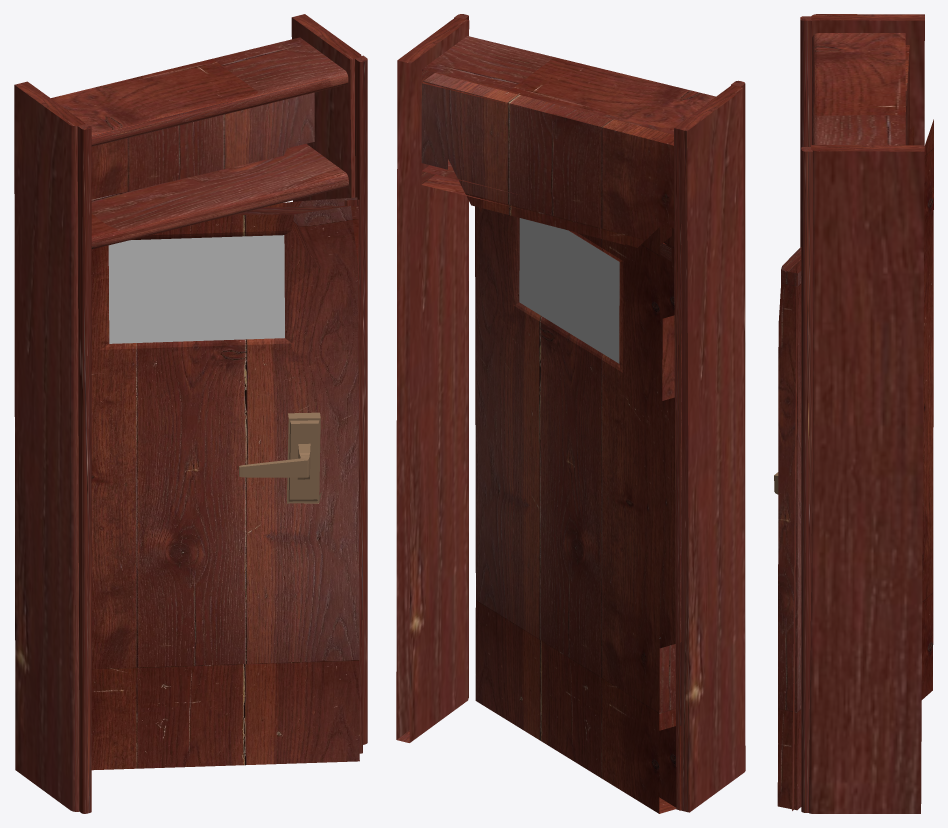
Rendered from ahahahahah.fbx.
The picture shows the model from 3 angles, left to right: view 1: azimuth 30°, elevation 25°; view 2: azimuth 150°, elevation 25°; view 3: azimuth 270°, elevation 25°; orthographic projection. The views are drawn at different scales.
Visible parts, largest first — view 1: 立方体.003, 立方体.006, 立方体.005; view 2: 立方体.003, 立方体.006, 立方体.005; view 3: 立方体.006, 立方体.003, 立方体.005.
Boxes of the visible parts, <box> form: 立方体.003: <box>91,197,362,770</box>; 立方体.006: <box>14,14,367,813</box>; 立方体.005: <box>91,92,314,199</box>; 立方体.003: <box>475,110,676,813</box>; 立方体.006: <box>396,14,745,812</box>; 立方体.005: <box>421,73,674,247</box>; 立方体.006: <box>800,14,924,813</box>; 立方体.003: <box>774,119,933,810</box>; 立方体.005: <box>905,45,909,145</box>.
Bounding box in the file's own units: 265 × 592 × 129.
17 materials, 7 textured.
